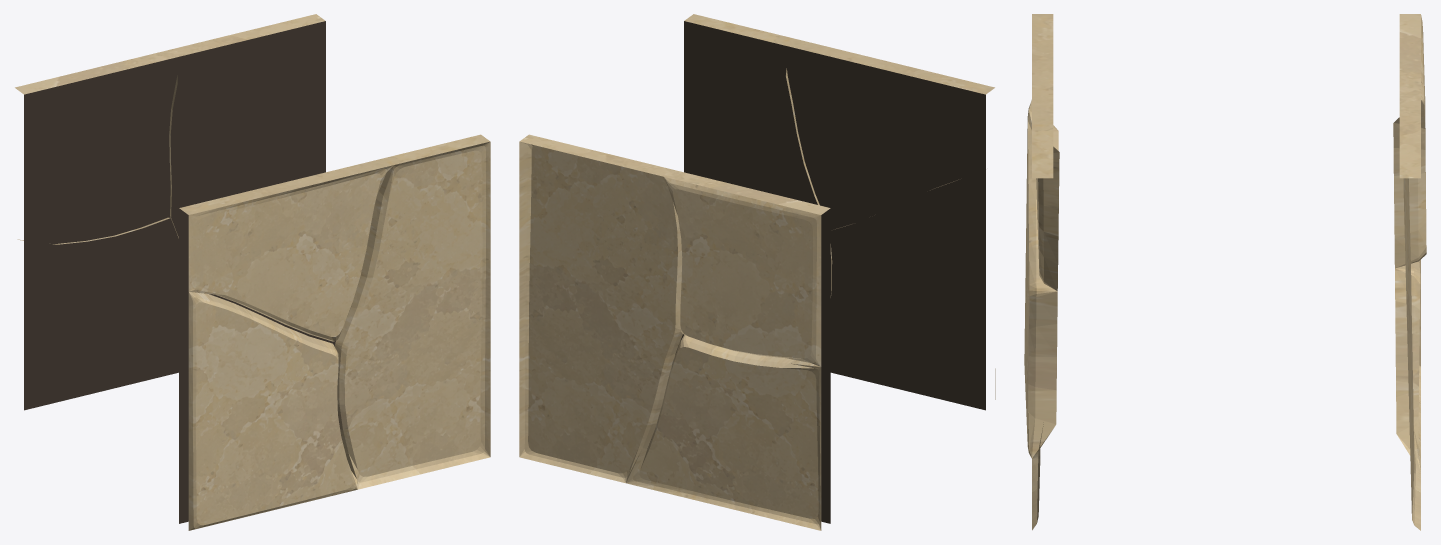
Rendered from ground_square_strip_06.glb.
The picture shows the model from 3 angles, left to right: view 1: azimuth 30°, elevation 25°; view 2: azimuth 150°, elevation 25°; view 3: azimuth 270°, elevation 25°; orthographic projection. The views are drawn at different scales.
Parts seen in each view (by area): view 1: GroundSquareStrip06_Body; view 2: GroundSquareStrip06_Body; view 3: GroundSquareStrip06_Body.
Part boxes in pixels (x1,y1,x2,y2): GroundSquareStrip06_Body: (15,14,490,530); GroundSquareStrip06_Body: (519,14,995,530); GroundSquareStrip06_Body: (1024,14,1426,530).
Size of the model in its own units: 1 by 1 by 1.03.
Materials: 8 (7 with a texture image).
